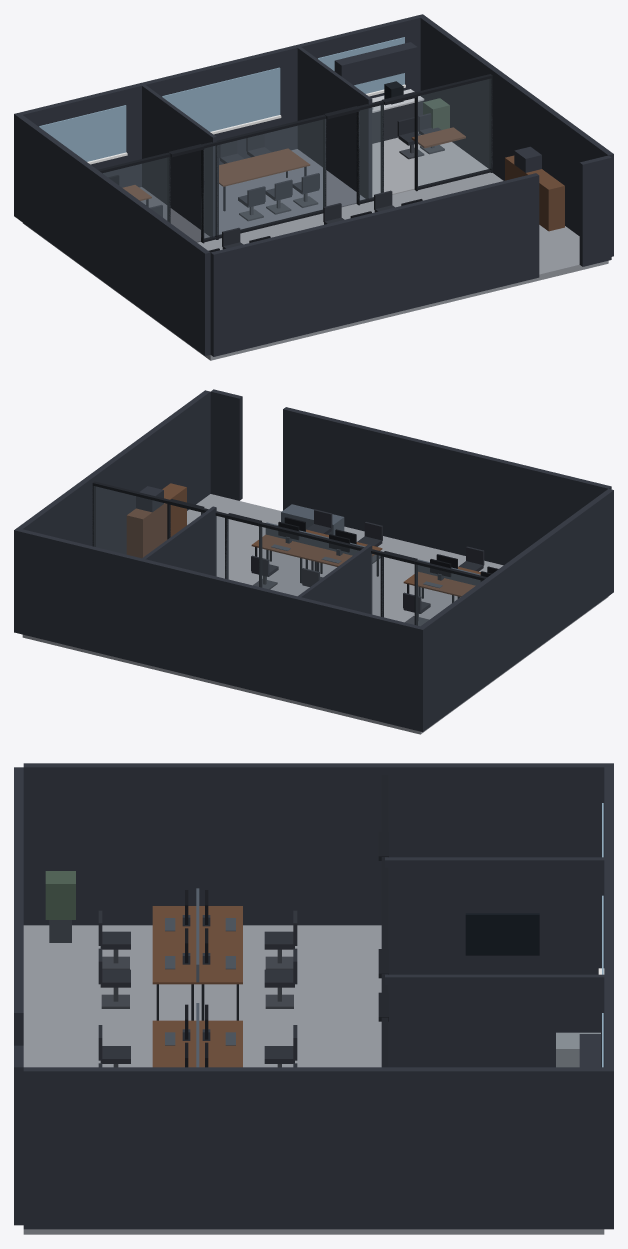
Rendered from 사무실_모델.glb.
3 views of the same model, one above another, from view 1: azimuth 30°, elevation 25°; view 2: azimuth 150°, elevation 25°; view 3: azimuth 270°, elevation 25° (orthographic). The views are drawn at different scales.
Visible parts, largest first — view 1: 전면 벽 A, 유리 칸막이 (×5), 좌측 벽, 실간 칸막이 (×2), 우측 벽, 후면 벽, 가정 창호 (×3), 바닥, 회의실 바닥, 탕비실 바닥, 전면 벽 B, 탕비 상부장 (+8 smaller); view 2: 후면 벽, 전면 벽 A, 좌측 벽, 우측 벽, 유리 칸막이 (×5), 바닥, 실간 칸막이 (×2), 전면 벽 B, 공용 수납장, 입구 벤치, 직원 책상 8, 직원 책상 4 (+4 smaller); view 3: 우측 벽, 좌측 벽, 실간 칸막이 (×2), 바닥, 후면 벽, 회의실 화면, 전면 벽 A, 전면 벽 B, 직원 책상 3, 직원 책상 4, 식재, 직원 책상 5 (+6 smaller).
Boxes of the visible parts, x1=… form: 전면 벽 A: x1=210, y1=173, x2=539, y2=356; 유리 칸막이 (×5): x1=103, y1=79, x2=490, y2=237; 좌측 벽: x1=17, y1=115, x2=210, y2=355; 실간 칸막이 (×2): x1=142, y1=47, x2=372, y2=237; 우측 벽: x1=420, y1=16, x2=613, y2=256; 후면 벽: x1=14, y1=14, x2=425, y2=217; 가정 창호 (×3): x1=39, y1=37, x2=404, y2=161; 바닥: x1=23, y1=172, x2=608, y2=360; 회의실 바닥: x1=219, y1=149, x2=365, y2=234; 탕비실 바닥: x1=372, y1=132, x2=488, y2=197; 전면 벽 B: x1=579, y1=155, x2=611, y2=266; 탕비 상부장: x1=334, y1=42, x2=417, y2=85; 후면 벽: x1=14, y1=528, x2=425, y2=731; 전면 벽 A: x1=283, y1=407, x2=611, y2=565; 좌측 벽: x1=421, y1=488, x2=613, y2=729; 우측 벽: x1=17, y1=390, x2=210, y2=554; 유리 칸막이 (×5): x1=93, y1=486, x2=481, y2=625; 바닥: x1=22, y1=494, x2=608, y2=734; 실간 칸막이 (×2): x1=142, y1=506, x2=372, y2=614; 전면 벽 B: x1=210, y1=389, x2=242, y2=500; 공용 수납장: x1=126, y1=483, x2=186, y2=558; 입구 벤치: x1=281, y1=504, x2=344, y2=535; 직원 책상 8: x1=251, y1=534, x2=315, y2=558; 직원 책상 4: x1=403, y1=571, x2=467, y2=595; 우측 벽: x1=23, y1=1067, x2=604, y2=1229; 좌측 벽: x1=23, y1=763, x2=604, y2=925; 실간 칸막이 (×2): x1=385, y1=857, x2=604, y2=1067; 바닥: x1=23, y1=925, x2=604, y2=1234; 후면 벽: x1=604, y1=763, x2=613, y2=1229; 회의실 화면: x1=465, y1=913, x2=539, y2=955; 전면 벽 A: x1=14, y1=767, x2=23, y2=1045; 전면 벽 B: x1=14, y1=1045, x2=23, y2=1225; 직원 책상 3: x1=152, y1=944, x2=197, y2=984; 직원 책상 4: x1=198, y1=944, x2=242, y2=984; 식재: x1=45, y1=871, x2=75, y2=919; 직원 책상 5: x1=152, y1=1020, x2=196, y2=1058.
Bounding box in the file's own units: 11.3 × 2.86 × 9.3.
